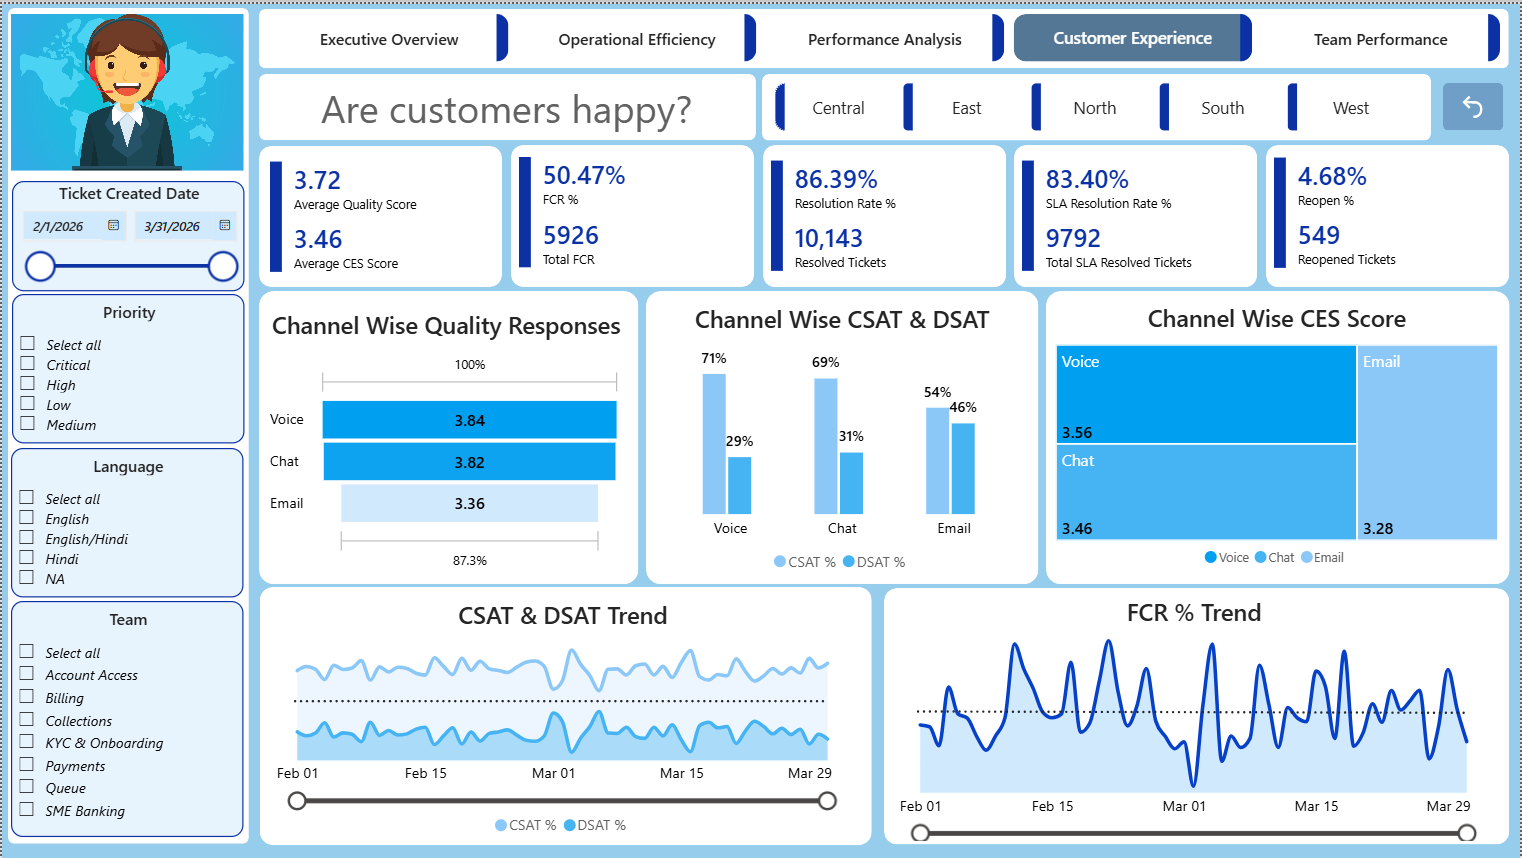

What the dashboard file says about the page in this screenshot:
{"tool":"powerbi","page":{"name":"Customer Experience","canvas":[1280,720],"ordinal":4},"visuals":[{"type":"shape","box":[5.4,3.6,203.1,704.6],"z":0,"group":"g14"},{"type":"shape","box":[216.7,4.5,1053.7,49.9],"z":0,"group":"g12"},{"type":"shape","box":[216.7,58.9,418.9,55.9],"z":0,"group":"g11"},{"type":"shape","box":[641.1,58.9,564,56.2],"z":0,"group":"g13"},{"type":"shape","box":[429.1,118.9,204.9,119.7],"z":0,"group":"g2"},{"type":"shape","box":[641.2,119.1,205,120],"z":0,"group":"g3"},{"type":"shape","box":[853.5,119.1,205,120],"z":0,"group":"g4"},{"type":"shape","box":[1065.8,119.1,205,120],"z":0,"group":"g5"},{"type":"shape","box":[216.7,119.7,204.9,118.9],"z":0,"group":"g1"},{"type":"group","id":"g1","title":"SLA & Avg Q Score ","box":[216.7,119.7,204.9,118.9],"z":0},{"type":"shape","box":[216.4,241.7,320,247.3],"z":0,"group":"g6"},{"type":"shape","box":[542.7,241.7,330.9,247.3],"z":0,"group":"g7"},{"type":"shape","box":[880,241.7,390.9,247.3],"z":0,"group":"g8"},{"type":"shape","box":[207.7,491.5,535.9,217.6],"z":0,"group":"g9"},{"type":"shape","box":[743.6,492.7,527.3,216.4],"z":0,"group":"g10"},{"type":"pageNavigator","box":[225.8,9,1040.1,40.8],"z":1000,"group":"g12"},{"type":"textbox","box":[220.5,65.1,410.8,42.8],"z":1000,"group":"g11"},{"type":"advancedSlicerVisual","fields":{"Values":["Call_Center_View.Customer_Region"]},"box":[651.1,65.2,543.2,42.6],"z":1000,"group":"g13"},{"type":"group","id":"g2","title":"Total Tickets & AHT","box":[429.1,118.9,204.9,119.7],"z":1000},{"type":"multiRowCard","fields":{"Values":["Measures Table.Reopen %","Measures Table.Reopened Tickets"]},"box":[1072.7,126.6,191.4,106.2],"z":1000,"group":"g5"},{"type":"multiRowCard","fields":{"Values":["Measures Table.FCR %","Measures Table.Total FCR"]},"box":[436,128.9,189.9,99.8],"z":1000,"group":"g2"},{"type":"multiRowCard","fields":{"Values":["Measures Table.Resolution Rate %","Measures Table.Resolved Tickets"]},"box":[648.1,129.1,190,100],"z":1000,"group":"g3"},{"type":"multiRowCard","fields":{"Values":["Measures Table.SLA Resolution Rate %","Measures Table.Total SLA Resolved Tickets"]},"box":[860.4,129.1,190,100],"z":1000,"group":"g4"},{"type":"multiRowCard","fields":{"Values":["Measures Table.Average Quality Score","Measures Table.Average CES Score"]},"box":[225.9,129.6,189.9,99.1],"z":1000,"group":"g1"},{"type":"treemap","title":"Channel Wise CES Score","fields":{"Group":["Call_Center_View.Channel"],"Values":["Measures Table.Average CES Score"]},"box":[883.6,244.7,382.7,238.5],"z":1000,"group":"g8"},{"type":"funnel","title":"Channel Wise Quality Responses","fields":{"Category":["Call_Center_View.Channel"],"Y":["Measures Table.Average Quality Score"]},"box":[220.9,250.8,307.3,231.8],"z":1000,"group":"g6"},{"type":"clusteredColumnChart","title":"Channel Wise CSAT & DSAT","fields":{"Category":["Call_Center_View.Channel"],"Y":["Measures Table.CSAT %","Measures Table.DSAT %"]},"box":[552.7,250.8,310.9,231.8],"z":1000,"group":"g7"},{"type":"listSlicer","fields":{"Values":["Call_Center_View.Language"]},"box":[8.3,374.5,195.9,126],"z":1000,"group":"g14"},{"type":"areaChart","title":"FCR % Trend","fields":{"Category":["Date_Table.Date.Variation.Date Hierarchy.Year","Date_Table.Date.Variation.Date Hierarchy.Quarter","Date_Table.Date.Variation.Date Hierarchy.Month","Date_Table.Date.Variation.Date Hierarchy.Day"],"Y":["Measures Table.FCR %"]},"box":[745.7,498.4,517.8,206.8],"z":1000,"group":"g10"},{"type":"lineChart","title":"CSAT & DSAT Trend","fields":{"Category":["Date_Table.Date.Variation.Date Hierarchy.Year","Date_Table.Date.Variation.Date Hierarchy.Quarter","Date_Table.Date.Variation.Date Hierarchy.Month","Date_Table.Date.Variation.Date Hierarchy.Day"],"Y":["Measures Table.CSAT %","Measures Table.DSAT %"]},"box":[220.8,501,504.2,204.9],"z":1000,"group":"g9"},{"type":"group","id":"g3","title":"Handled & Resolved Tickets","box":[641.2,119.1,205,120],"z":2000},{"type":"slicer","title":"Ticket Created Date","fields":{"Values":["Call_Center_View.Created Date"]},"box":[8.4,149.2,195.6,92.7],"z":2000,"group":"g14"},{"type":"group","id":"g4","title":"Pending & Abandoned Tickets","box":[853.5,119.1,205,120],"z":3000},{"type":"listSlicer","fields":{"Values":["Call_Center_View.Team"]},"box":[8.3,503.6,195.9,198.6],"z":3000,"group":"g14"},{"type":"group","id":"g5","title":"Open & Reopened Tickets","box":[1065.8,119.1,205,120],"z":4000},{"type":"listSlicer","fields":{"Values":["Call_Center_View.Priority"]},"box":[8.5,245,195.6,126.5],"z":4000,"group":"g14"},{"type":"image","box":[8.1,9,195.9,132.4],"z":5000,"group":"g14"},{"type":"group","id":"g6","title":"Channel Wise SLA","box":[216.4,241.7,320,247.3],"z":5000},{"type":"group","id":"g7","title":"Channel Wise AHT","box":[542.7,241.7,330.9,247.3],"z":6000},{"type":"group","id":"g8","title":"Channel Wise Tickets","box":[880,241.7,390.9,247.3],"z":7000},{"type":"group","id":"g9","title":"Tickets Inflow Trend","box":[207.7,491.5,535.9,217.6],"z":8000},{"type":"group","id":"g10","title":"Service Level Trend","box":[743.6,492.7,527.3,216.4],"z":9000},{"type":"group","id":"g11","title":"What's happening ?","box":[216.7,58.9,418.9,55.3],"z":10000},{"type":"group","id":"g12","title":"Page Navigator","box":[216.7,4.5,1053.7,49.9],"z":11000},{"type":"group","id":"g13","title":"Customer Region","box":[641.1,58.9,564,56.2],"z":12000},{"type":"actionButton","title":"Reset All Filters","box":[1215.1,66.2,50.8,39.9],"z":13000},{"type":"group","id":"g14","title":"Left Filter Pane","box":[5.4,3.6,203.1,704.6],"z":14000}]}

Visuals, with their boxes in screenshot pixels (x1, y1, x2, y2), scaled from the page's 1280x720 canvas onto the 1522x858 screenshot:
shape: pyautogui.locateOnScreen(6, 4, 248, 844)
shape: pyautogui.locateOnScreen(258, 5, 1511, 65)
shape: pyautogui.locateOnScreen(258, 70, 756, 137)
shape: pyautogui.locateOnScreen(762, 70, 1433, 137)
shape: pyautogui.locateOnScreen(510, 142, 754, 284)
shape: pyautogui.locateOnScreen(762, 142, 1006, 285)
shape: pyautogui.locateOnScreen(1015, 142, 1259, 285)
shape: pyautogui.locateOnScreen(1267, 142, 1511, 285)
shape: pyautogui.locateOnScreen(258, 143, 501, 284)
"SLA & Avg Q Score " group: pyautogui.locateOnScreen(258, 143, 501, 284)
shape: pyautogui.locateOnScreen(257, 288, 638, 583)
shape: pyautogui.locateOnScreen(645, 288, 1039, 583)
shape: pyautogui.locateOnScreen(1046, 288, 1511, 583)
shape: pyautogui.locateOnScreen(247, 586, 884, 845)
shape: pyautogui.locateOnScreen(884, 587, 1511, 845)
pageNavigator: pyautogui.locateOnScreen(268, 11, 1505, 59)
textbox: pyautogui.locateOnScreen(262, 78, 751, 129)
advancedSlicerVisual - Call_Center_View.Customer_Region: pyautogui.locateOnScreen(774, 78, 1420, 128)
"Total Tickets & AHT" group: pyautogui.locateOnScreen(510, 142, 754, 284)
multiRowCard - Measures Table.Reopen % x Measures Table.Reopened Tickets: pyautogui.locateOnScreen(1276, 151, 1503, 277)
multiRowCard - Measures Table.FCR % x Measures Table.Total FCR: pyautogui.locateOnScreen(518, 154, 744, 273)
multiRowCard - Measures Table.Resolution Rate % x Measures Table.Resolved Tickets: pyautogui.locateOnScreen(771, 154, 997, 273)
multiRowCard - Measures Table.SLA Resolution Rate % x Measures Table.Total SLA Resolved Tickets: pyautogui.locateOnScreen(1023, 154, 1249, 273)
multiRowCard - Measures Table.Average Quality Score x Measures Table.Average CES Score: pyautogui.locateOnScreen(269, 154, 494, 273)
"Channel Wise CES Score" treemap: pyautogui.locateOnScreen(1051, 292, 1506, 576)
"Channel Wise Quality Responses" funnel: pyautogui.locateOnScreen(263, 299, 628, 575)
"Channel Wise CSAT & DSAT" clusteredColumnChart: pyautogui.locateOnScreen(657, 299, 1027, 575)
listSlicer - Call_Center_View.Language: pyautogui.locateOnScreen(10, 446, 243, 596)
"FCR % Trend" areaChart: pyautogui.locateOnScreen(887, 594, 1502, 840)
"CSAT & DSAT Trend" lineChart: pyautogui.locateOnScreen(263, 597, 862, 841)
"Handled & Resolved Tickets" group: pyautogui.locateOnScreen(762, 142, 1006, 285)
"Ticket Created Date" slicer: pyautogui.locateOnScreen(10, 178, 243, 288)
"Pending & Abandoned Tickets" group: pyautogui.locateOnScreen(1015, 142, 1259, 285)
listSlicer - Call_Center_View.Team: pyautogui.locateOnScreen(10, 600, 243, 837)
"Open & Reopened Tickets" group: pyautogui.locateOnScreen(1267, 142, 1511, 285)
listSlicer - Call_Center_View.Priority: pyautogui.locateOnScreen(10, 292, 243, 443)
image: pyautogui.locateOnScreen(10, 11, 243, 169)
"Channel Wise SLA" group: pyautogui.locateOnScreen(257, 288, 638, 583)
"Channel Wise AHT" group: pyautogui.locateOnScreen(645, 288, 1039, 583)
"Channel Wise Tickets" group: pyautogui.locateOnScreen(1046, 288, 1511, 583)
"Tickets Inflow Trend" group: pyautogui.locateOnScreen(247, 586, 884, 845)
"Service Level Trend" group: pyautogui.locateOnScreen(884, 587, 1511, 845)
"What's happening ?" group: pyautogui.locateOnScreen(258, 70, 756, 136)
"Page Navigator" group: pyautogui.locateOnScreen(258, 5, 1511, 65)
"Customer Region" group: pyautogui.locateOnScreen(762, 70, 1433, 137)
"Reset All Filters" actionButton: pyautogui.locateOnScreen(1445, 79, 1505, 126)
"Left Filter Pane" group: pyautogui.locateOnScreen(6, 4, 248, 844)
